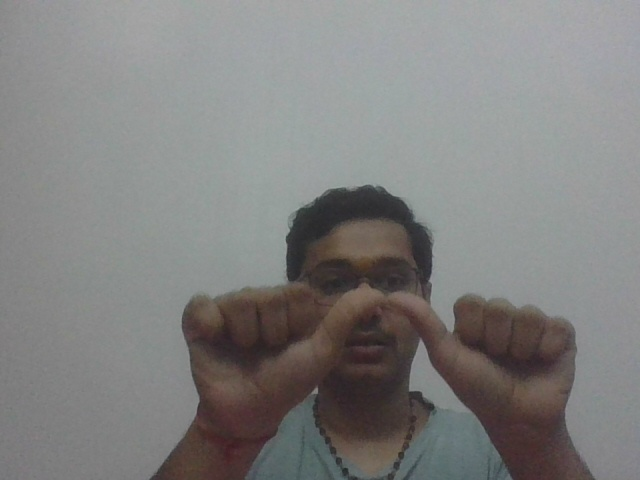A: (175, 281, 596, 424)
